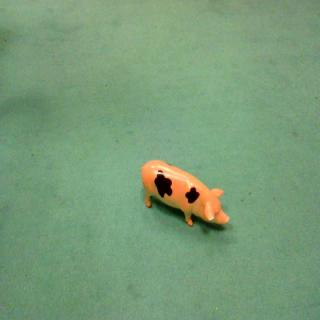pig: (136, 156, 236, 230)
